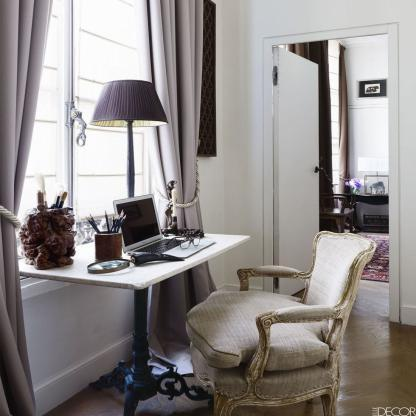chair: (174, 228, 389, 416), (320, 165, 359, 234)
door: (275, 45, 322, 289)
light: (86, 78, 169, 198)
table: (12, 230, 254, 416), (350, 188, 391, 225)
